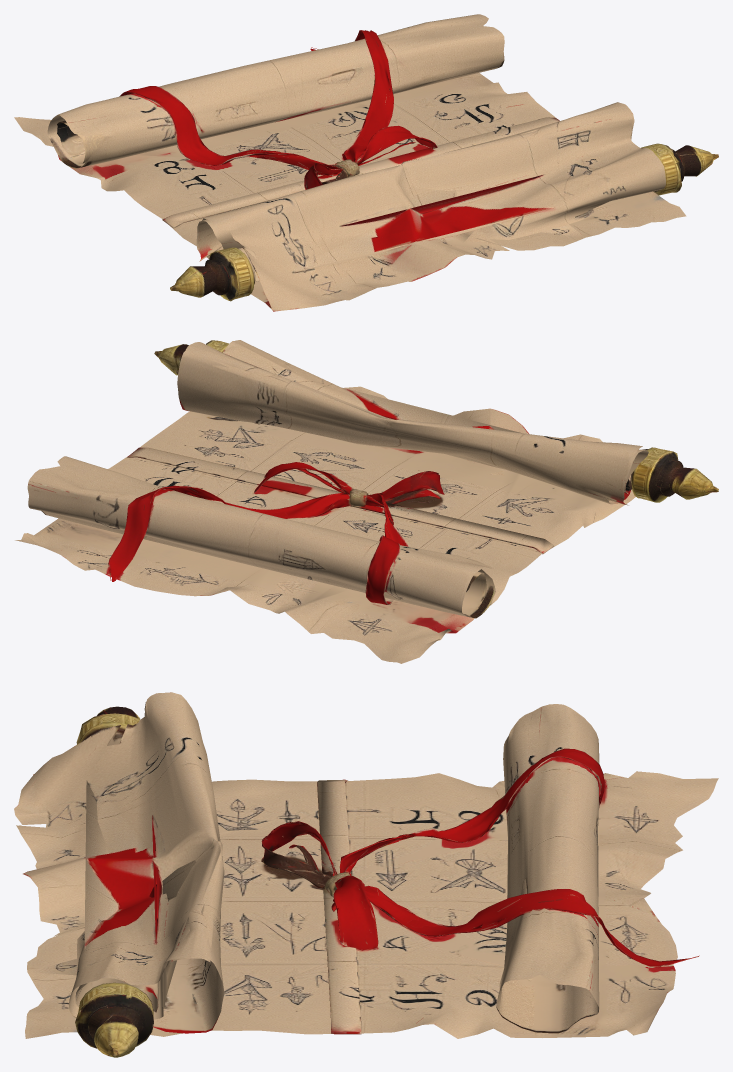
The model's file is scroll.glb.
3 views of the same model, one above another, from view 1: azimuth 30°, elevation 25°; view 2: azimuth 150°, elevation 25°; view 3: azimuth 270°, elevation 25° (orthographic). The views are drawn at different scales.
Bounding box in the file's own units: 0.9585 × 0.1167 × 0.8228.
Materials: 1 (1 with a texture image).
